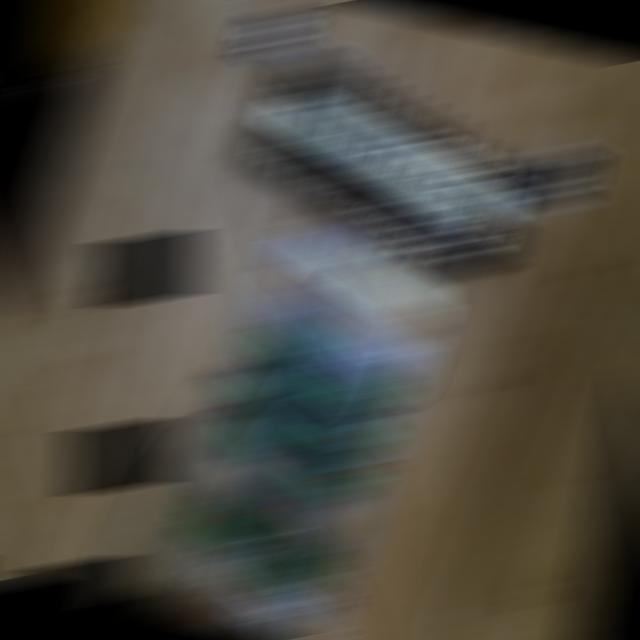Phillips_Block: (240, 47, 543, 270)
Terminal_1: (190, 495, 269, 556), (249, 538, 329, 598)
Terminal_2: (290, 447, 368, 505), (306, 403, 383, 461), (223, 404, 299, 462), (254, 315, 330, 370), (238, 361, 314, 415)
